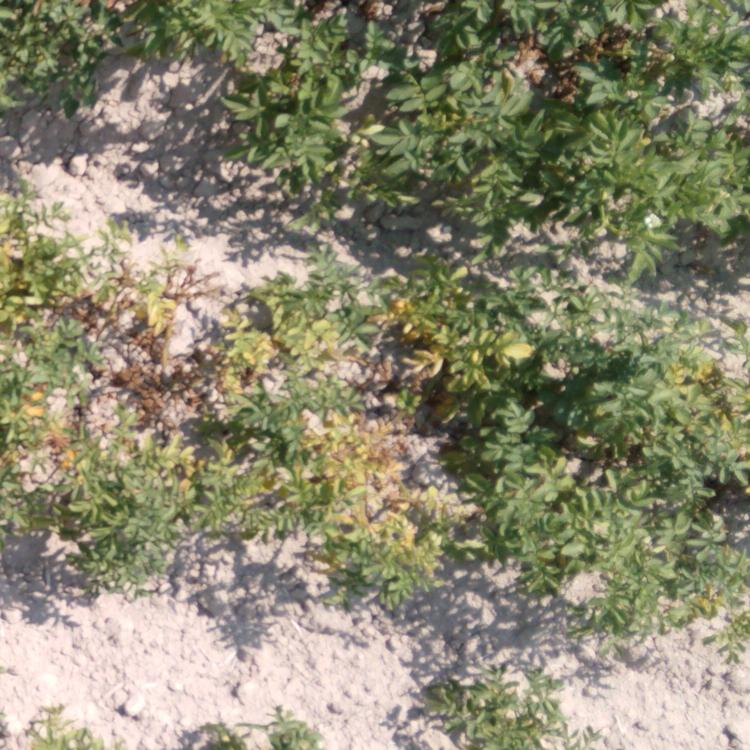healthy: (530, 104, 743, 258), (374, 1, 518, 220), (466, 411, 618, 564), (530, 4, 744, 91), (248, 32, 341, 204), (4, 1, 120, 104), (556, 278, 630, 396), (140, 1, 238, 69)
stressed: (72, 383, 183, 579), (1, 185, 111, 365), (195, 385, 318, 537), (383, 267, 523, 395), (218, 255, 356, 381), (407, 649, 579, 748), (638, 487, 750, 617), (643, 330, 750, 465), (337, 504, 441, 611), (329, 402, 446, 490), (123, 244, 202, 356), (174, 698, 325, 750), (1, 383, 46, 525), (33, 706, 102, 750)
